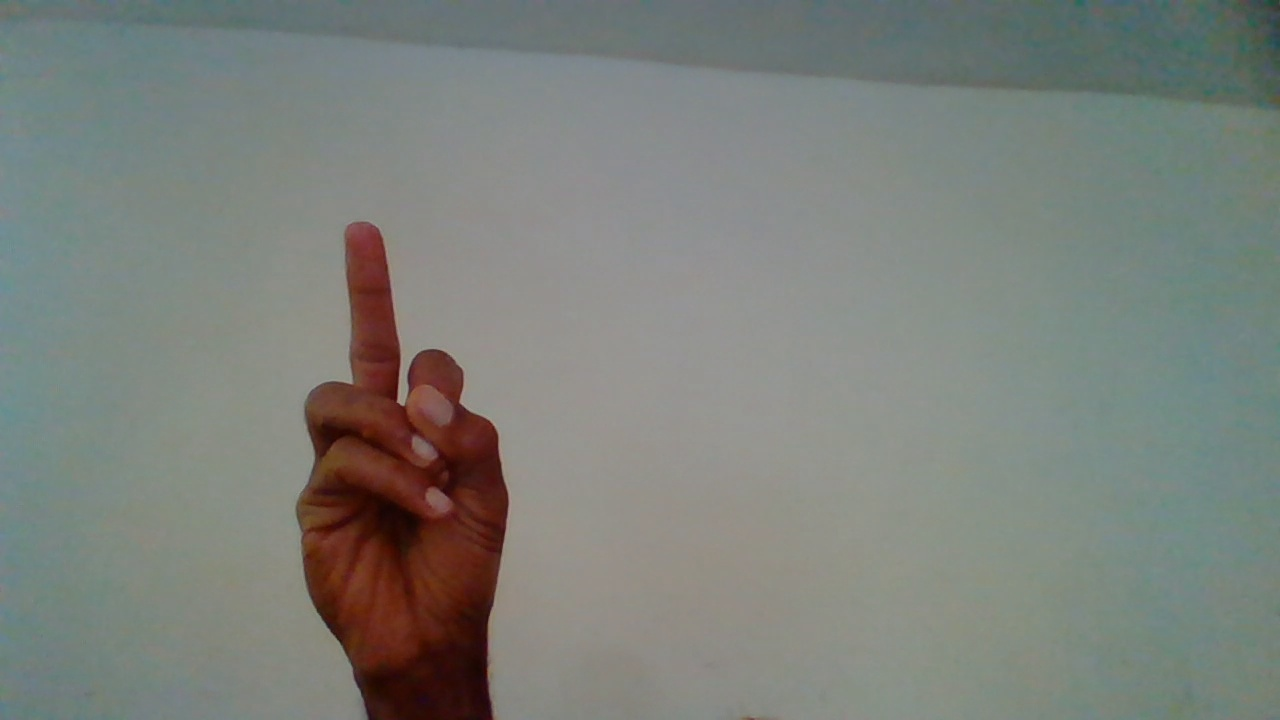he: (301, 223, 478, 651)
